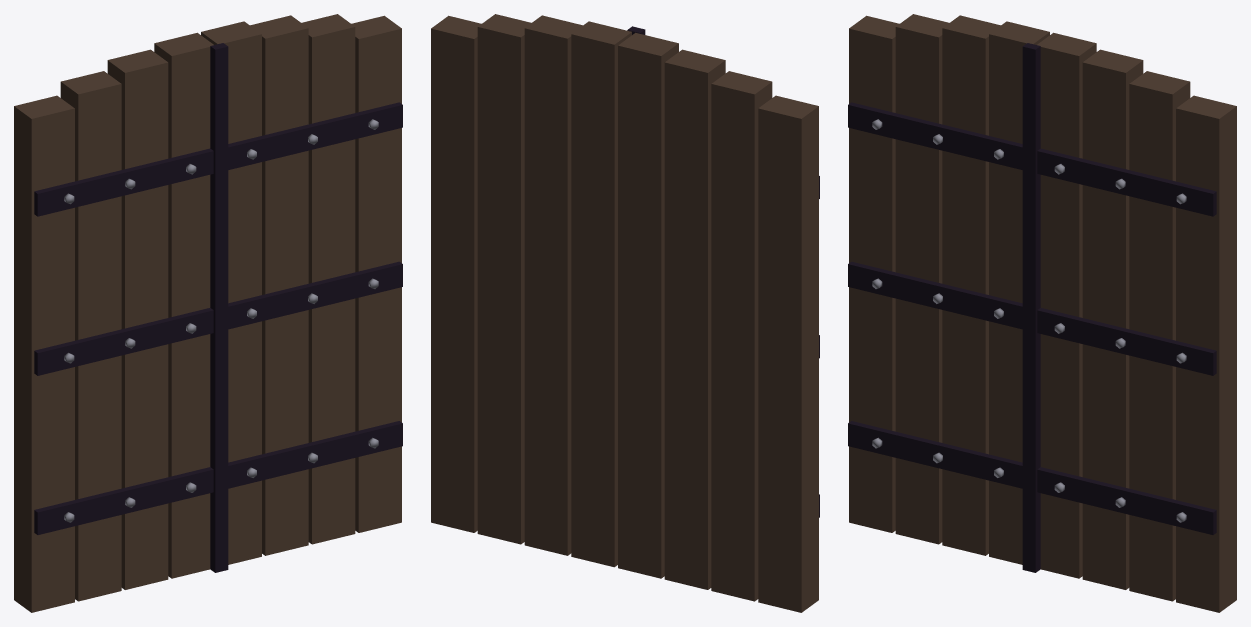
Rendered from gate_wooden.glb.
The picture shows the model from 3 angles, left to right: view 1: azimuth 30°, elevation 25°; view 2: azimuth 150°, elevation 25°; view 3: azimuth 330°, elevation 25°; orthographic projection.
Parts seen in each view (by area): view 1: gate_wooden; view 2: gate_wooden; view 3: gate_wooden.
Boxes of the visible parts, x1,y1,x2,y2 form: gate_wooden: (14,14,402,612); gate_wooden: (431,14,819,612); gate_wooden: (848,14,1236,612).
Bounding box in the file's own units: 0.852 × 1.15 × 0.094.
